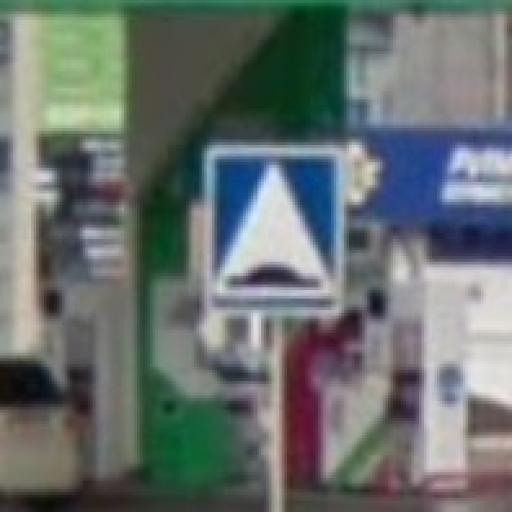traffic_sign: (200, 138, 353, 325)
